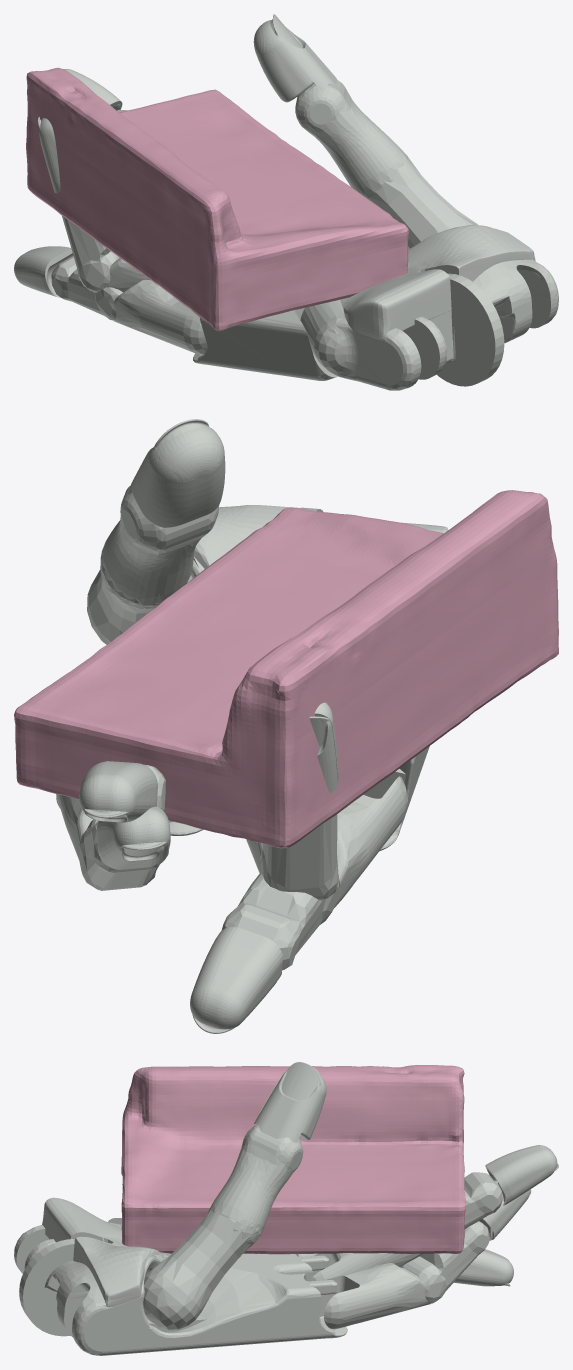
3 renders of one model, top to bottom at view 1: azimuth 30°, elevation 25°; view 2: azimuth 150°, elevation 25°; view 3: azimuth 270°, elevation 25°, orthographic. The views are drawn at different scales.
Visible parts, largest first — view 1: hand_isaac_q, world; view 2: world, hand_isaac_q; view 3: hand_isaac_q, world.
Boxes of the visible parts, <box> form: hand_isaac_q: <box>14,14,558,390</box>; world: <box>26,67,408,331</box>; world: <box>14,490,558,848</box>; hand_isaac_q: <box>56,419,448,1033</box>; hand_isaac_q: <box>14,1062,558,1355</box>; world: <box>121,1065,465,1254</box>.
Bounding box in the file's own units: 0.1281 × 0.1184 × 0.2093.
